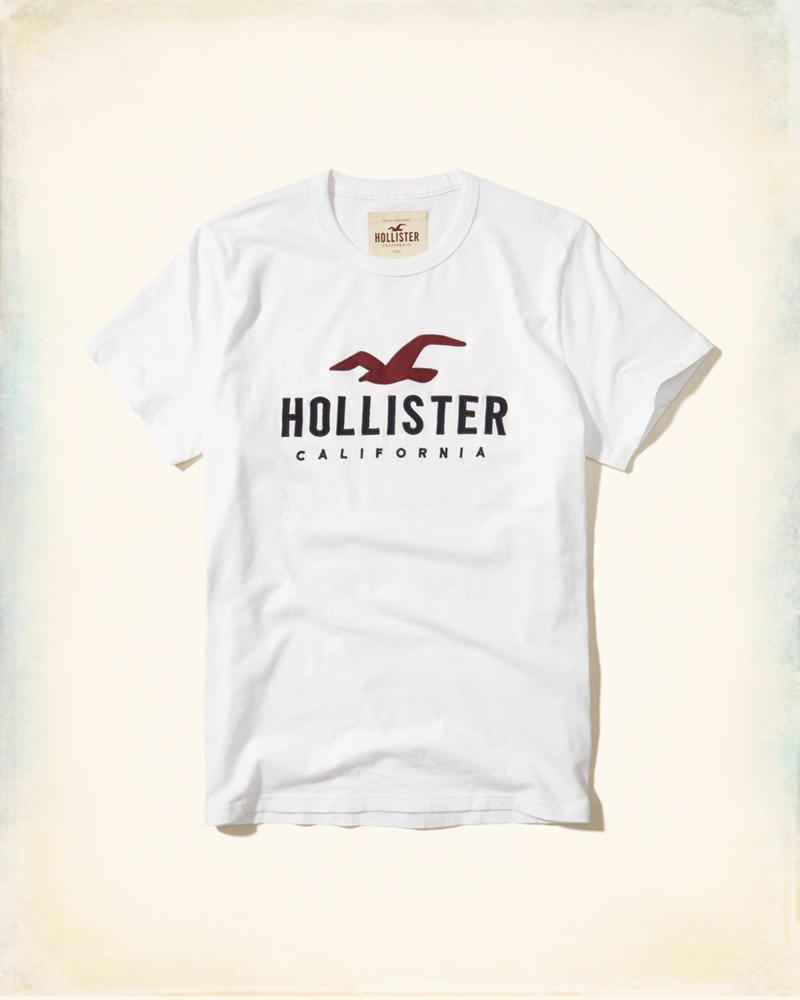teeshirt: (83, 165, 733, 860)
